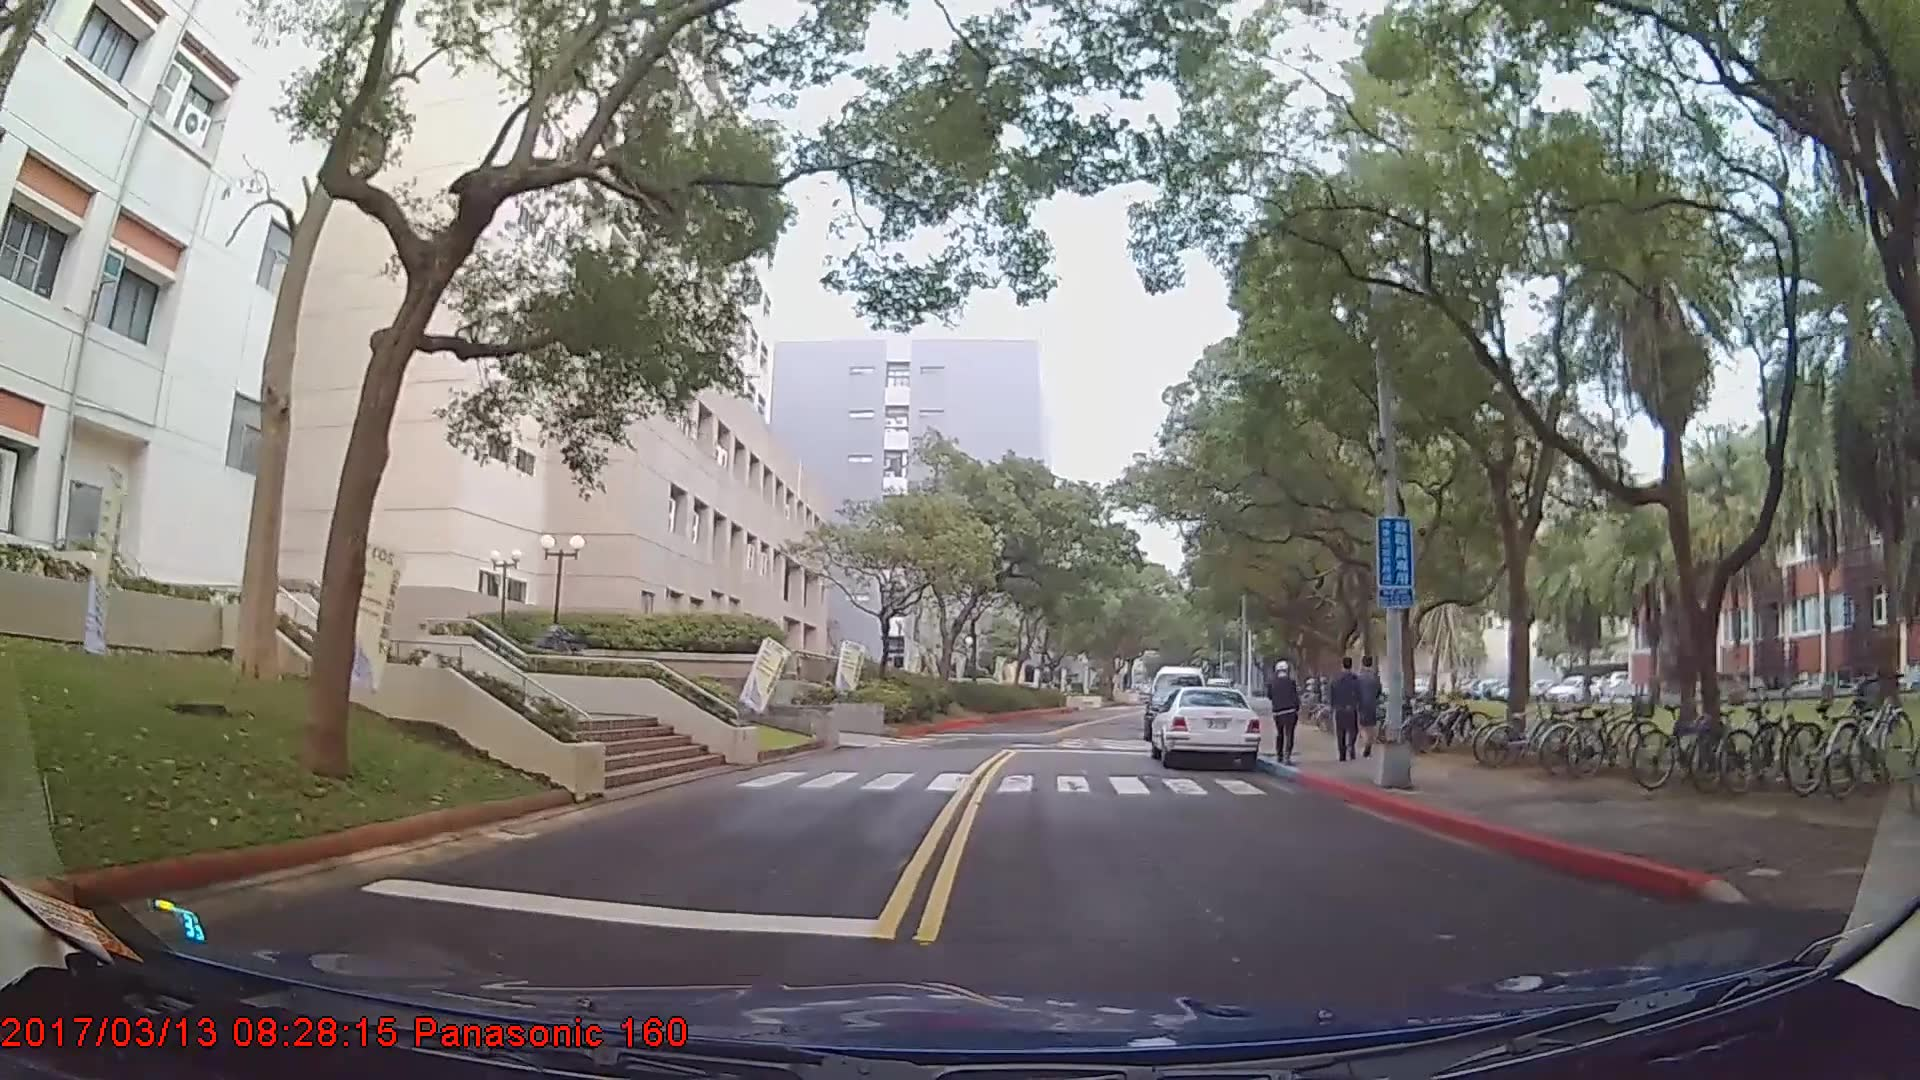pedestrian: (1333, 653, 1369, 761), (1271, 659, 1301, 765)
vehicle: (1146, 684, 1261, 766)
